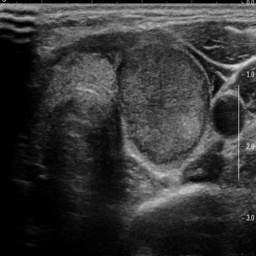mass: (119, 45, 210, 157)
